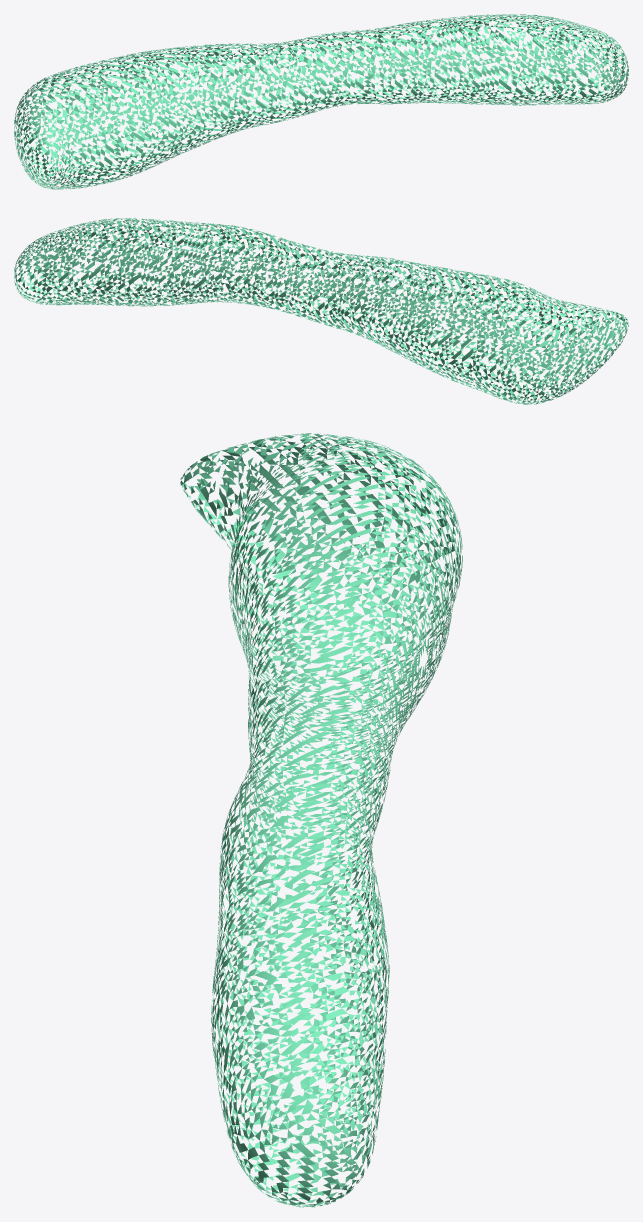
File: healthy.glb
3 views of the same model, one above another, from view 1: azimuth 30°, elevation 25°; view 2: azimuth 150°, elevation 25°; view 3: azimuth 270°, elevation 25° (orthographic). The views are drawn at different scales.
Bounding box in the file's own units: 106 × 23.8 × 22.37.
